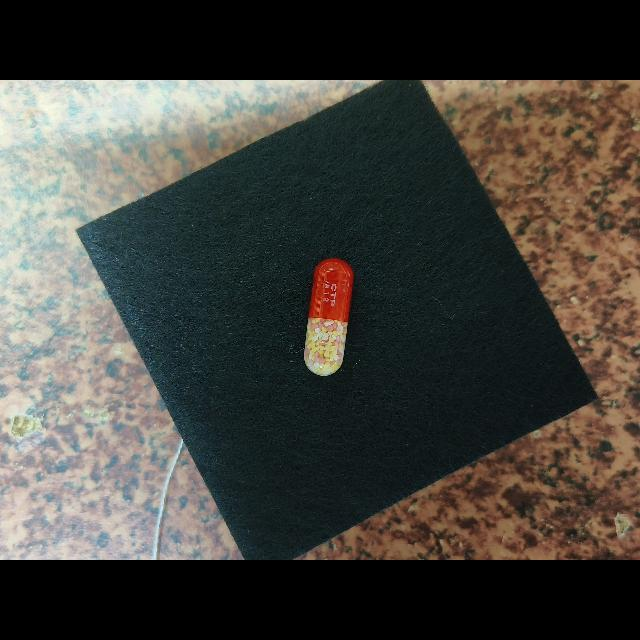Intact Capsule: (304, 258, 354, 376)
